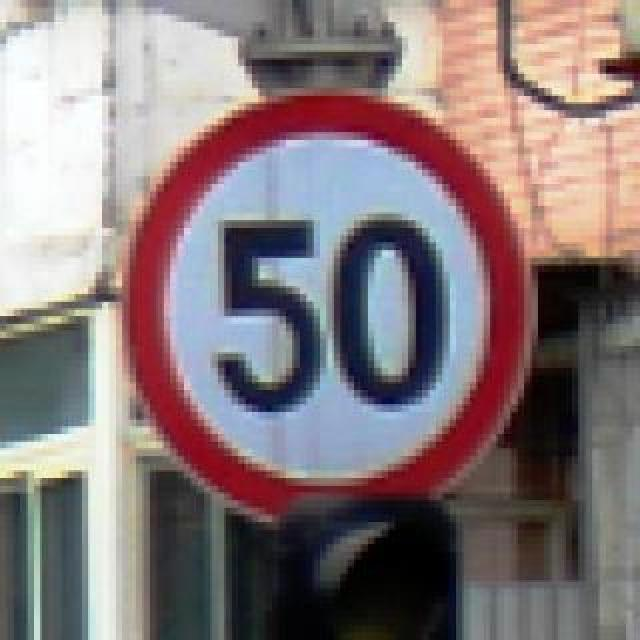50 kph: (116, 82, 524, 516)
